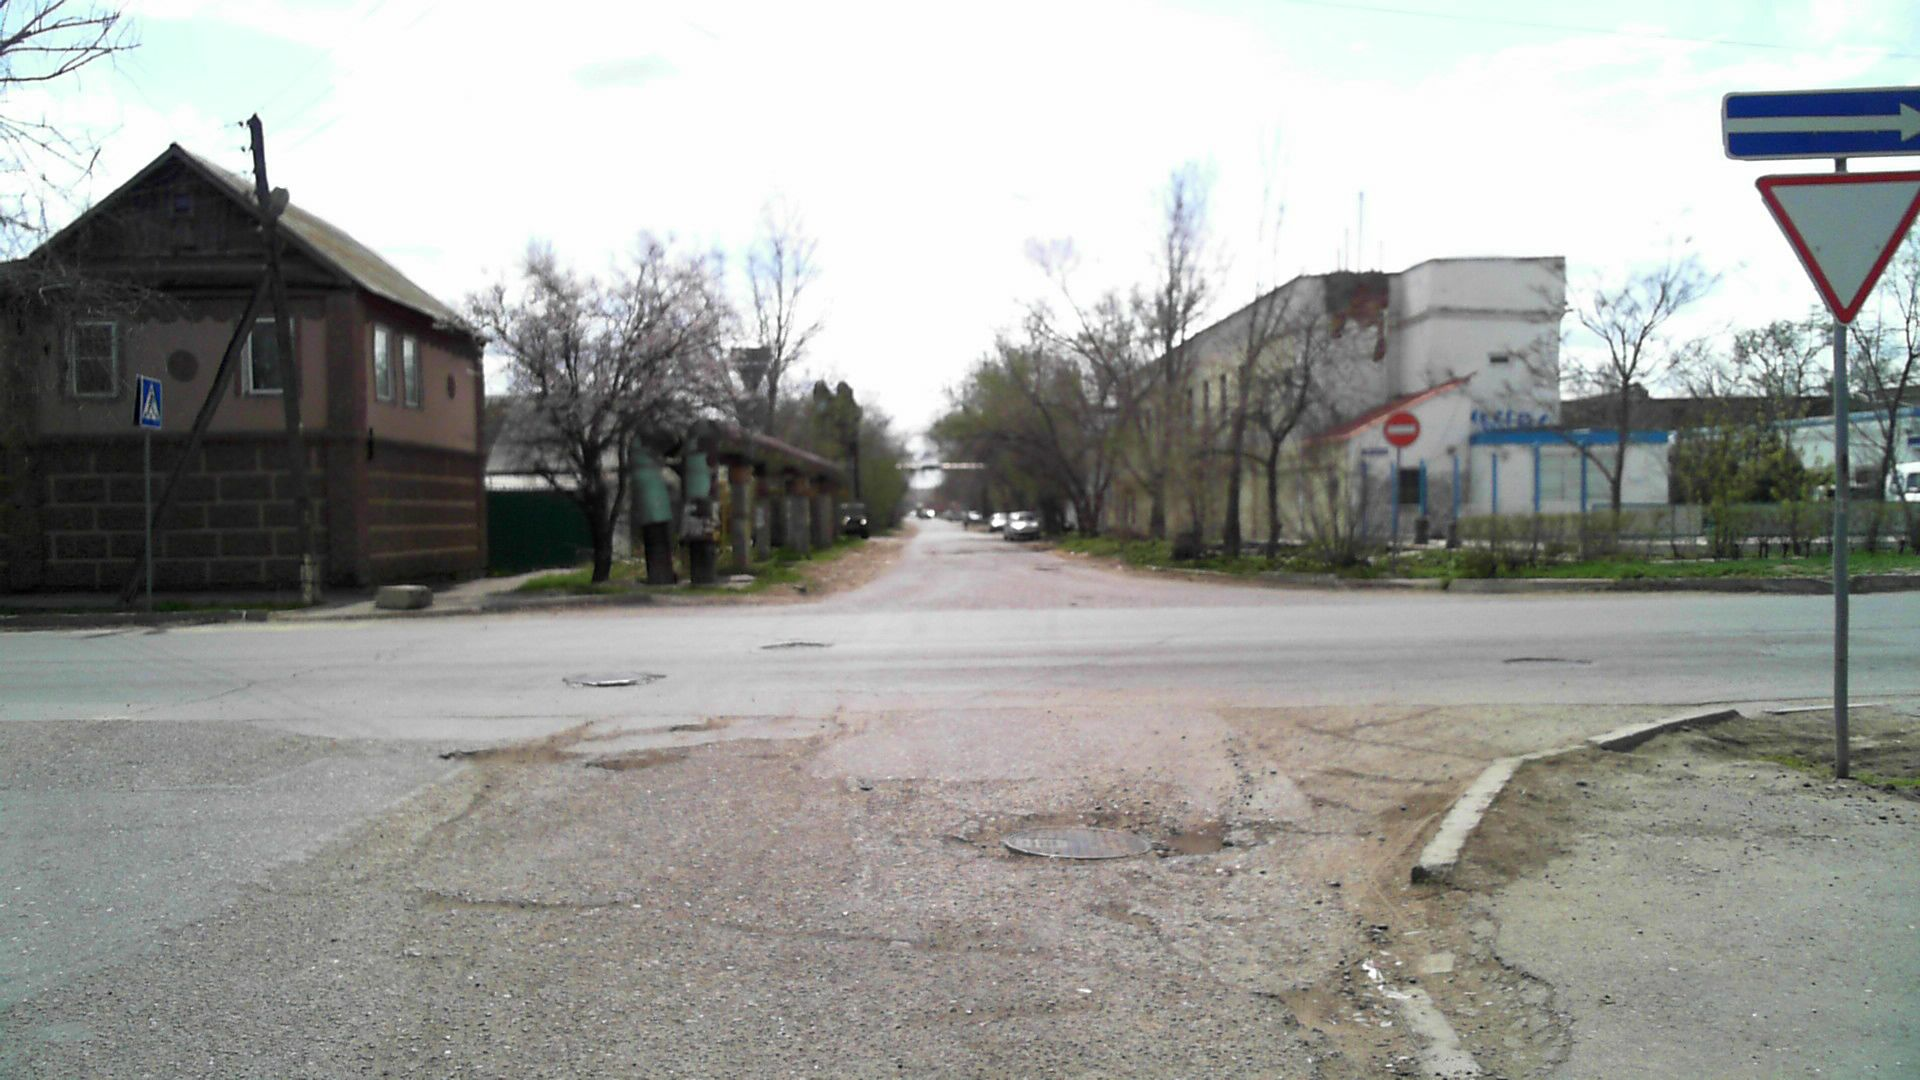One-Way Traffic: (1722, 90, 1920, 156)
